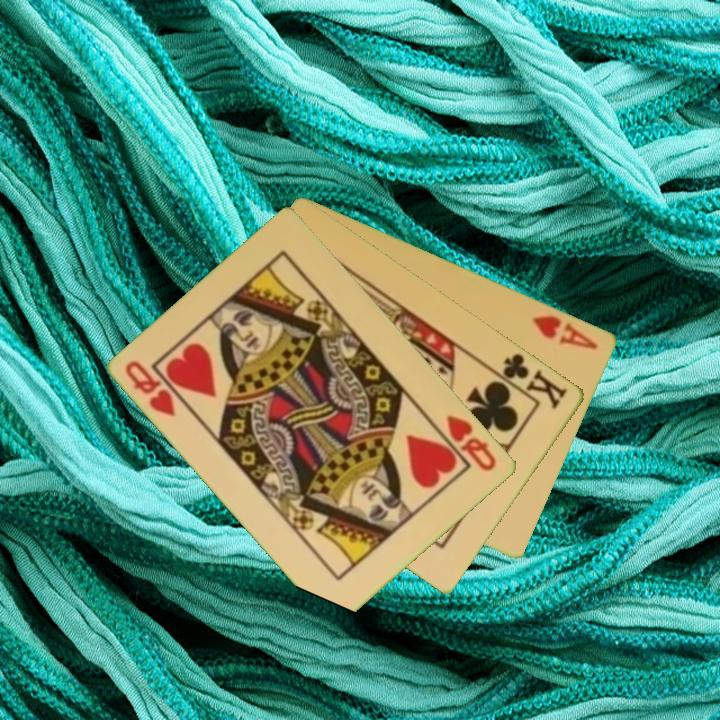Ah: (529, 311, 601, 353)
Kc: (491, 349, 571, 413)
Qh: (443, 411, 500, 475), (122, 357, 179, 420)
